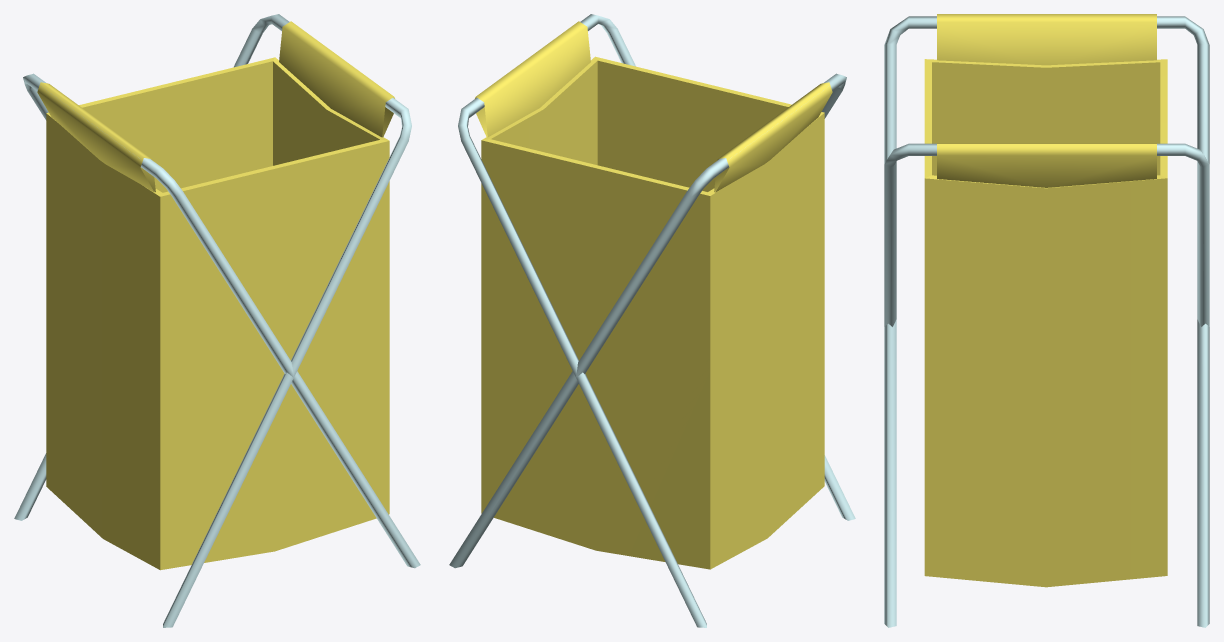
Rendered from SM_bathroom_item_001.FBX.
The picture shows the model from 3 angles, left to right: view 1: azimuth 30°, elevation 25°; view 2: azimuth 150°, elevation 25°; view 3: azimuth 270°, elevation 25°; orthographic projection. The views are drawn at different scales.
Parts seen in each view (by area): view 1: SM_bathroom_item_001; view 2: SM_bathroom_item_001; view 3: SM_bathroom_item_001.
Boxes of the visible parts, x1=… form: SM_bathroom_item_001: x1=14, y1=14, x2=420, y2=627; SM_bathroom_item_001: x1=449, y1=14, x2=855, y2=627; SM_bathroom_item_001: x1=884, y1=14, x2=1209, y2=627.
Size of the model in its own units: 46 by 47.17 by 77.14.
